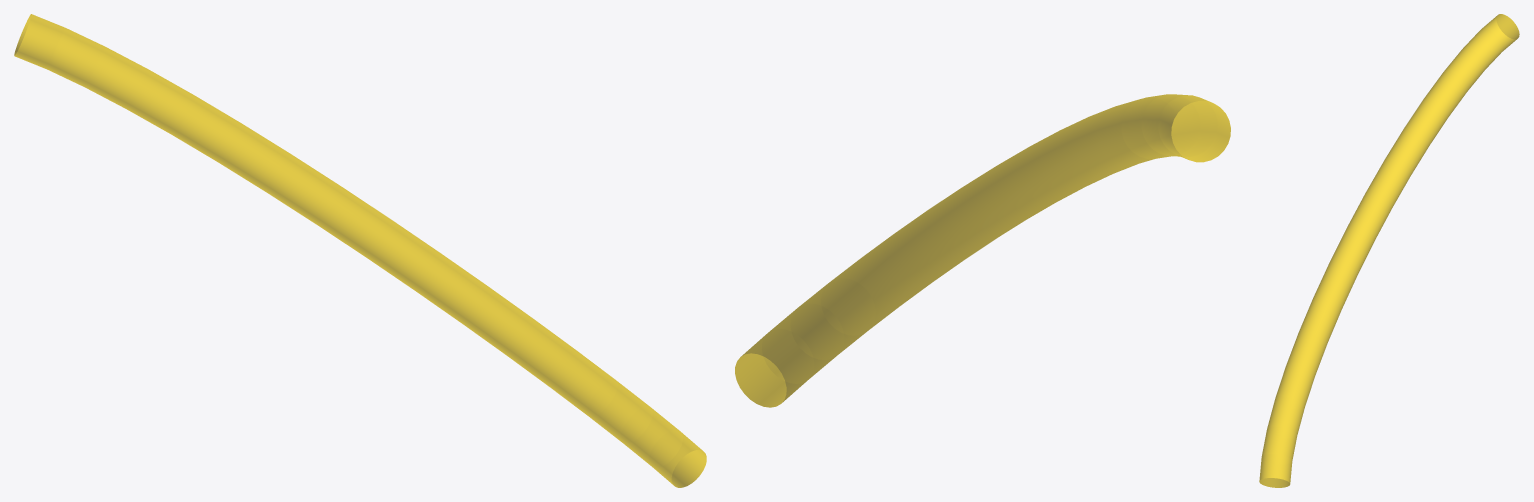
Rendered from Event_17758602_track_106.fbx.
3 renders of one model, left to right at view 1: azimuth 30°, elevation 25°; view 2: azimuth 150°, elevation 25°; view 3: azimuth 270°, elevation 25°, orthographic. The views are drawn at different scales.
Parts seen in each view (by area): view 1: Model; view 2: Model; view 3: Model.
Boxes of the visible parts, left/top/right/bottom form: Model: left=14, top=14, right=706, bottom=487; Model: left=735, top=94, right=1230, bottom=407; Model: left=1259, top=14, right=1519, bottom=487.
Bounding box in the file's own units: 0.5304 × 0.4479 × 0.3354.
